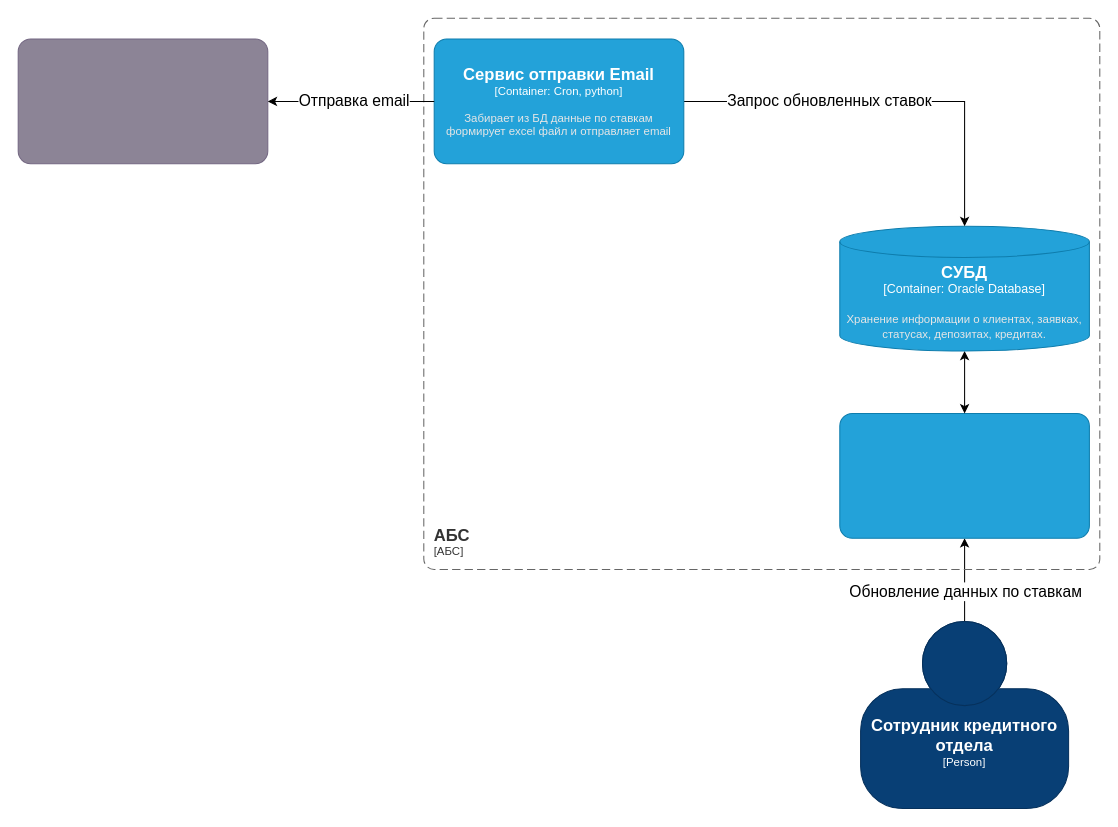
Image size: 1118x827. Some labels were removed from this diagram. The centre of each missing label's shape, as x and y in pixels:
"Delphy клиент [Container: ] UI для сотрудников банка" goes at pixel 964 475.
"External system name [Software System] Description of external software system." goes at pixel 142 101.
